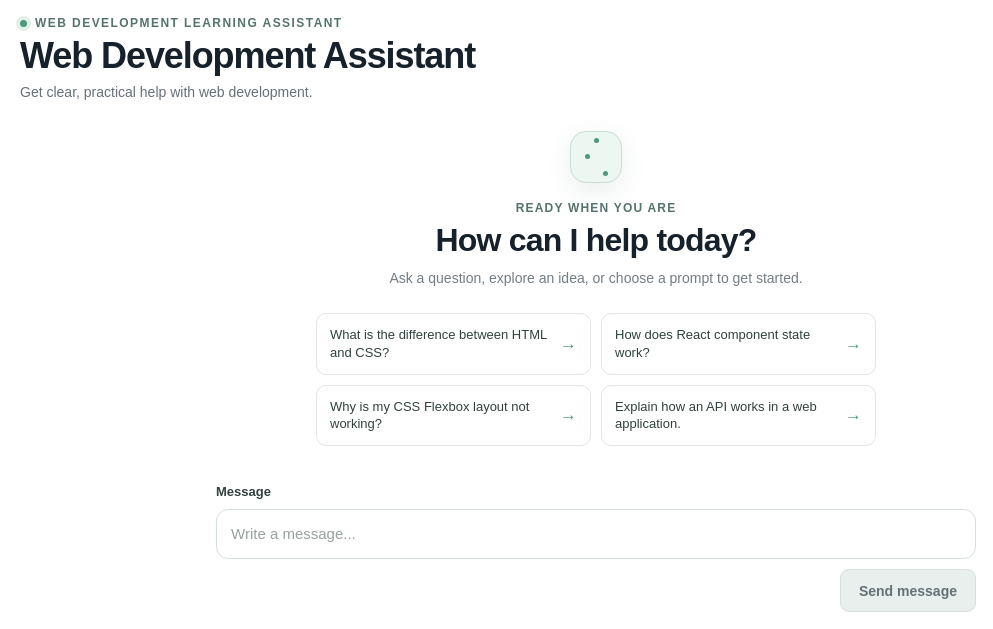
Test: ChatInterface › enables the Send button when the user types a message
This screenshot has width=993, height=629.
Type "How does React work?" into the text box labelled "Message" at (596, 534), box [216,509,976,559]
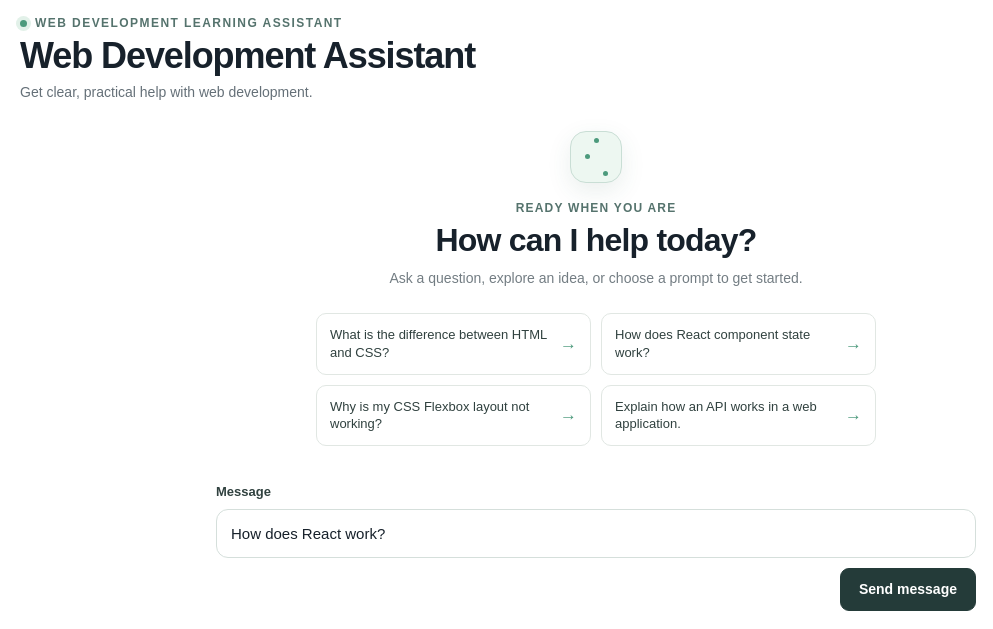
Expected: the button "Send message" is enabled, [840,568,976,611]
